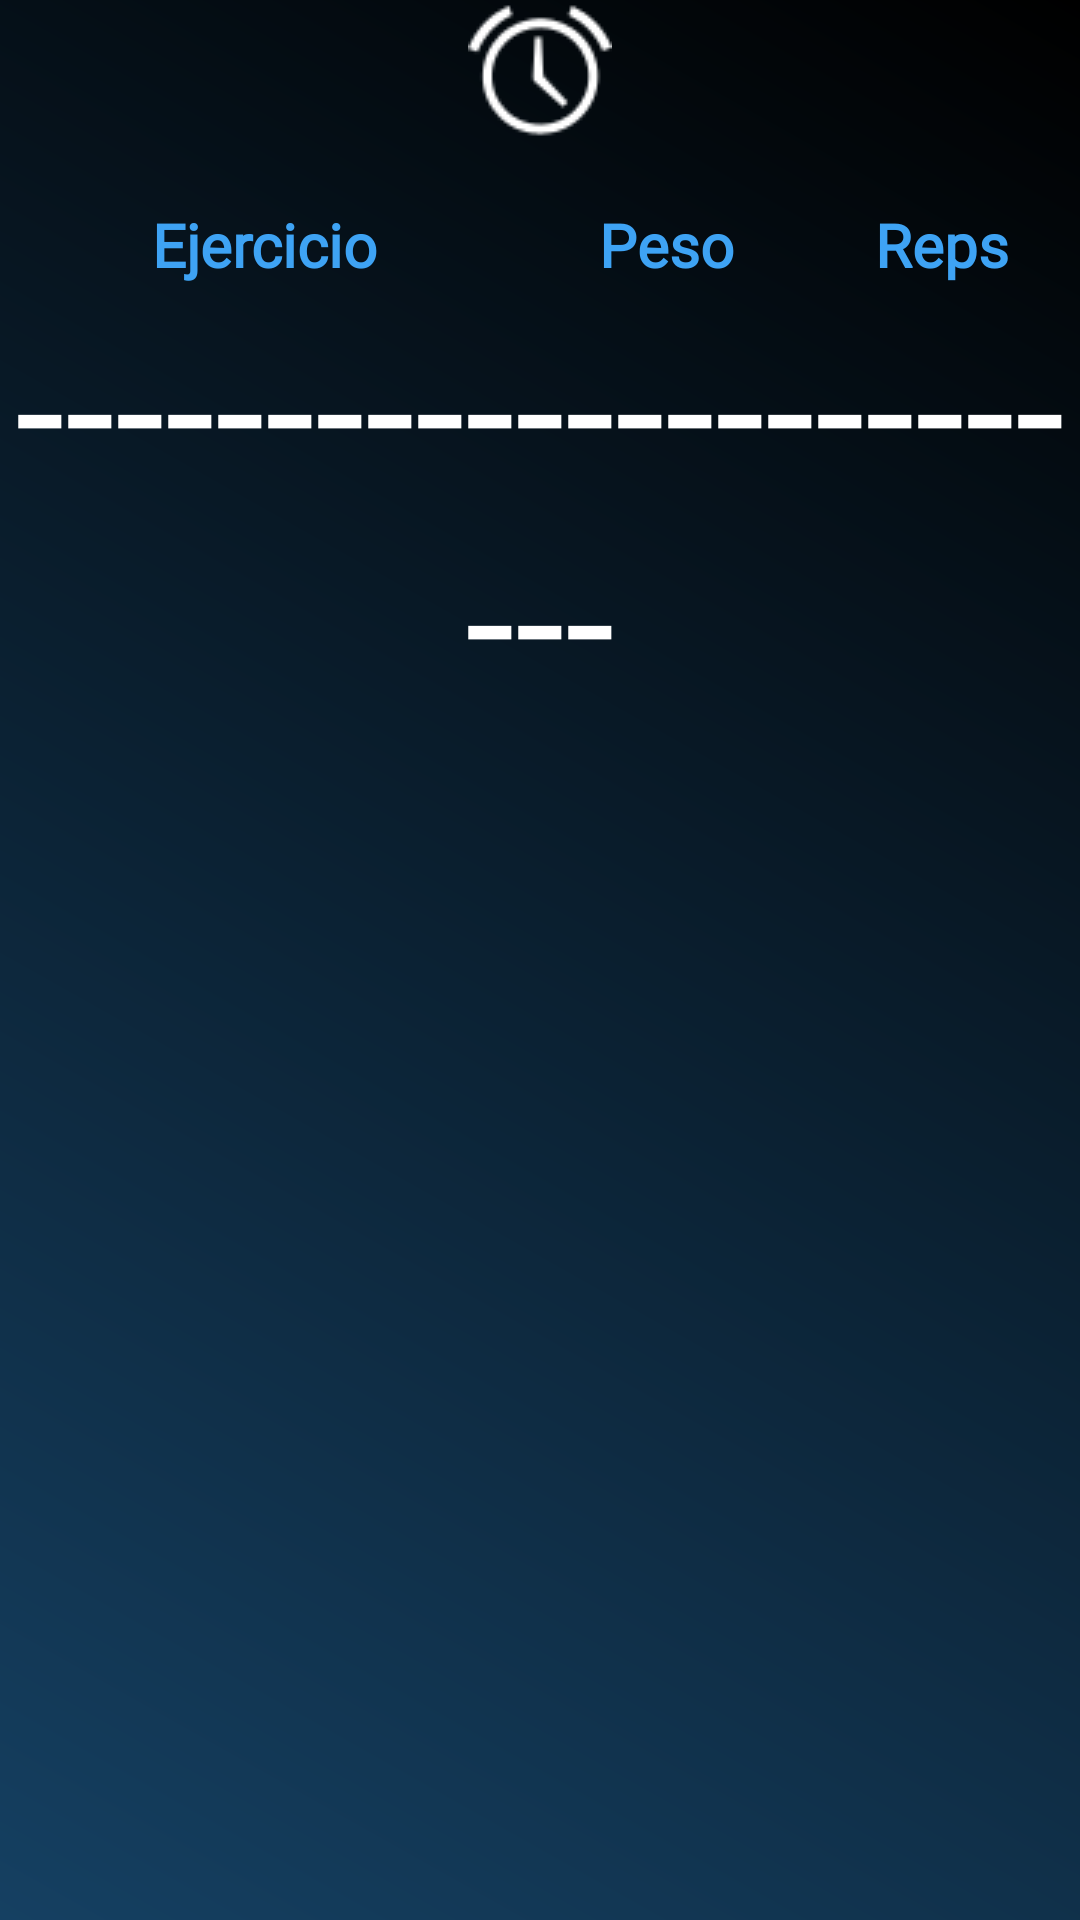

Where to tap for icons on this 1080 × 1920 app screen, as (x=x, y=y):
lock idle alarm: (x=540, y=70)
